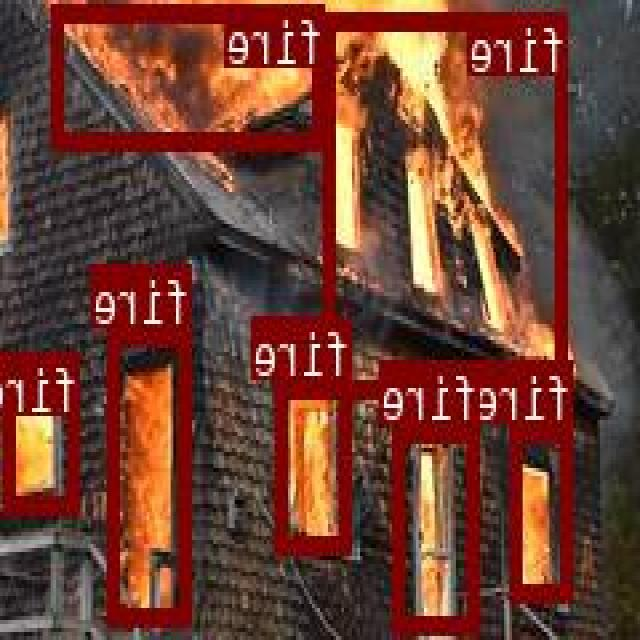fire: (325, 11, 568, 394), (55, 3, 327, 145), (111, 326, 192, 621), (396, 422, 481, 632), (279, 377, 353, 549), (5, 352, 81, 510), (514, 424, 576, 600)
